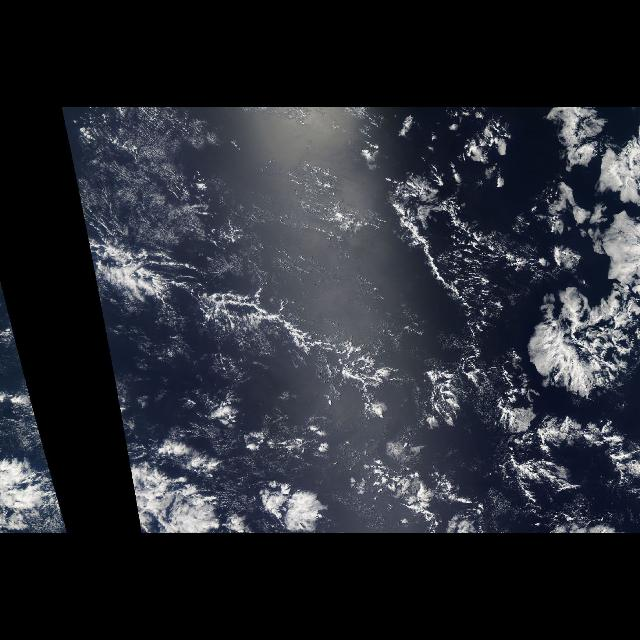Fish: (86, 177, 636, 491)
Flower: (534, 109, 640, 393)
Sugar: (69, 107, 385, 263)
